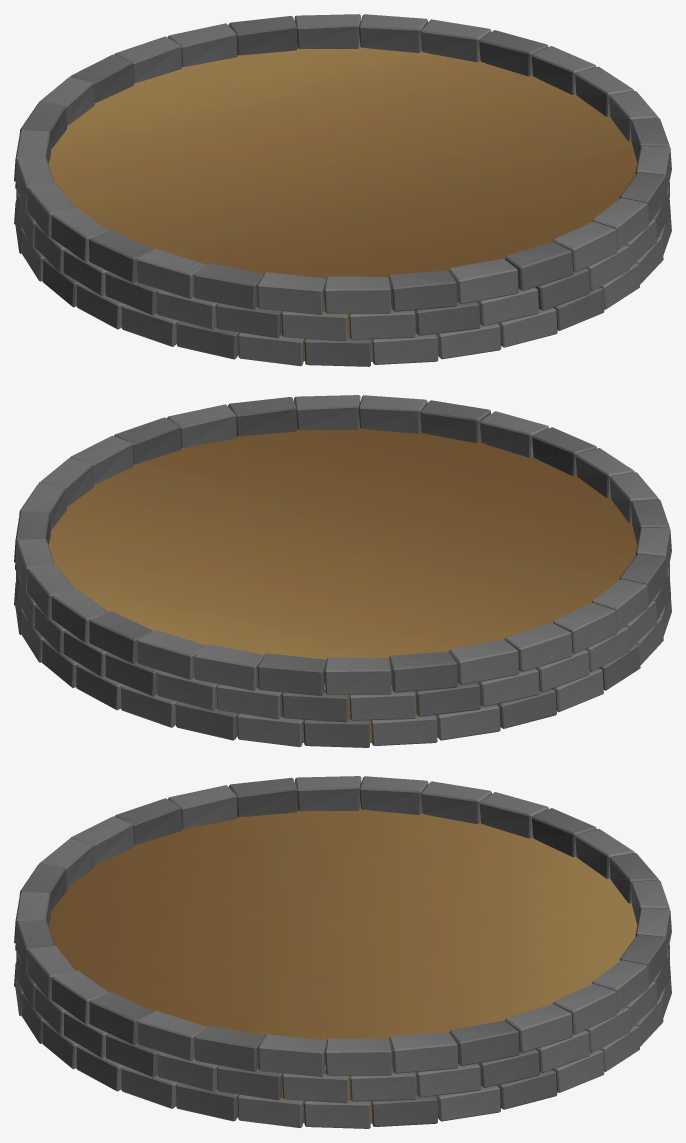
File: block_03.fbx
3 views of the same model, one above another, from view 1: azimuth 30°, elevation 25°; view 2: azimuth 150°, elevation 25°; view 3: azimuth 270°, elevation 25° (orthographic).
Parts seen in each view (by area): view 1: Block_03; view 2: Block_03; view 3: Block_03.
Part boxes in pixels (left/top/right/bottom): Block_03: left=14, top=14, right=671, bottom=366; Block_03: left=14, top=395, right=671, bottom=747; Block_03: left=14, top=776, right=671, bottom=1128.
Bounding box in the file's own units: 1258 × 166 × 1256.
1 material, 1 textured.
